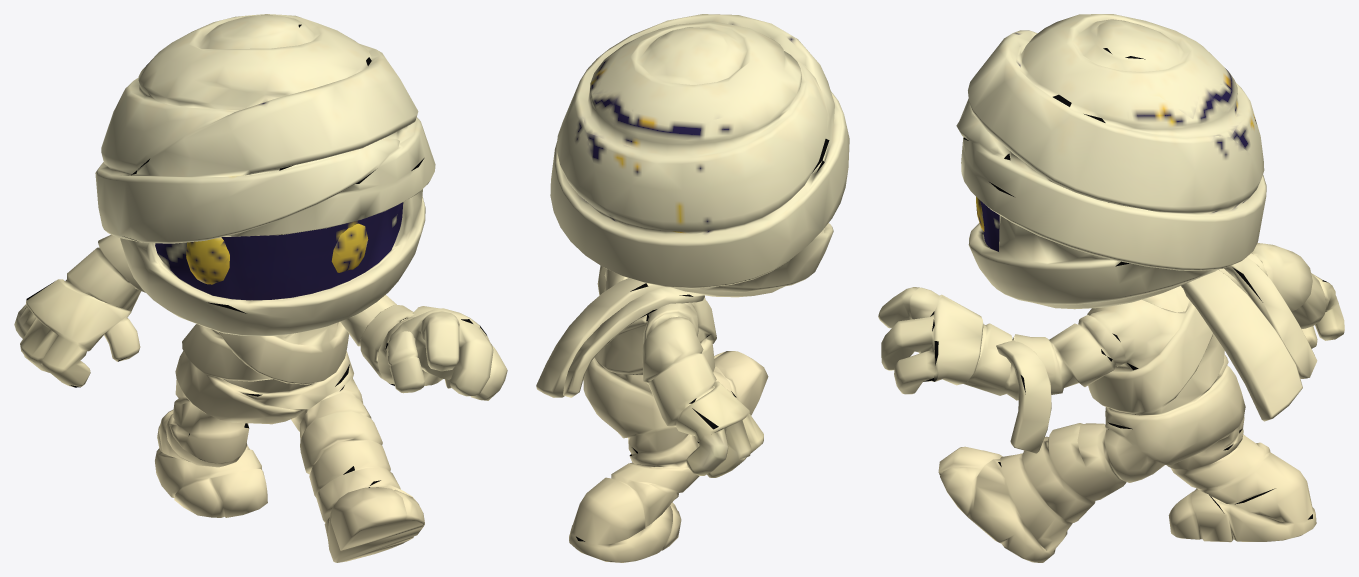
File: kit-mummy.glb
3 views of the same model, side by side, from view 1: azimuth 30°, elevation 25°; view 2: azimuth 150°, elevation 25°; view 3: azimuth 270°, elevation 25° (orthographic). The views are drawn at different scales.
Parts seen in each view (by area): view 1: WBA_Character_Mummy_01_WBA_MAT_Halloween_Atlas_0.001; view 2: WBA_Character_Mummy_01_WBA_MAT_Halloween_Atlas_0.001; view 3: WBA_Character_Mummy_01_WBA_MAT_Halloween_Atlas_0.001.
Part boxes in pixels (x1,y1,x2,y2): WBA_Character_Mummy_01_WBA_MAT_Halloween_Atlas_0.001: (14,14,507,562); WBA_Character_Mummy_01_WBA_MAT_Halloween_Atlas_0.001: (536,14,849,562); WBA_Character_Mummy_01_WBA_MAT_Halloween_Atlas_0.001: (878,14,1344,562).
Size of the model in its own units: 0.8847 by 1.44 by 1.21.
1 material, 1 textured.
